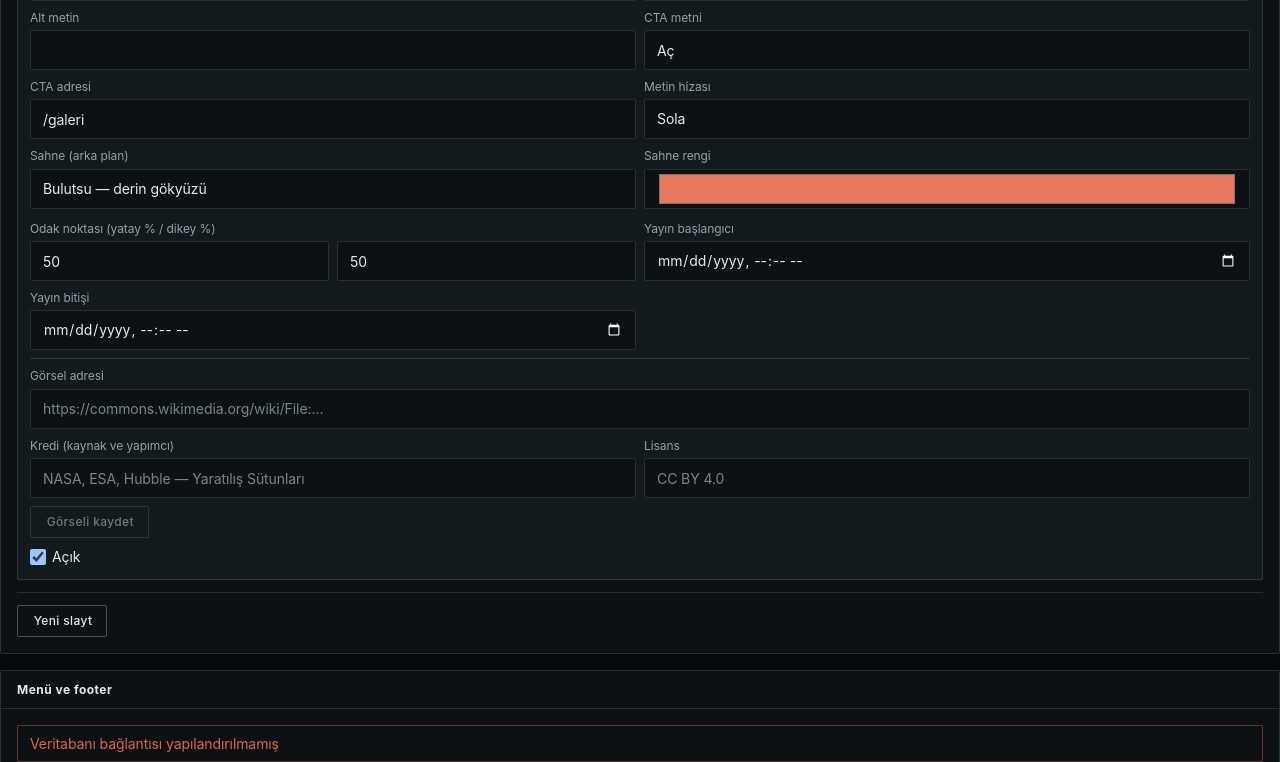
Test: hero slaytları › CSP dışı adres kaydedilemez
(page scrolled)
Type "https://ornek.com/foto.jpg" into the field labelled "Görsel adresi" at (640, 409), box [30,389,1250,429]
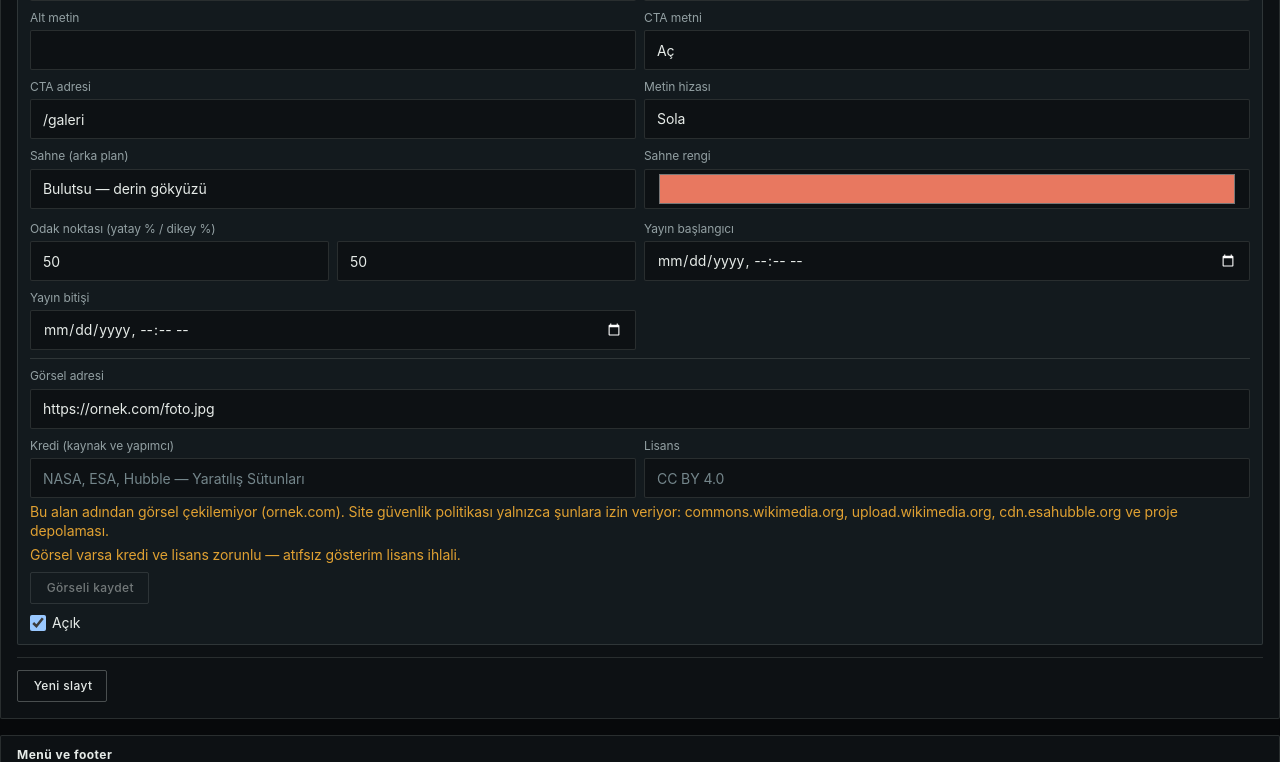
Expected: the button "Görseli kaydet" is disabled, [30,572,149,604]
Result: the text "Bu alan adından görsel çekilemiyor" is shown at [30,503,1178,540]
